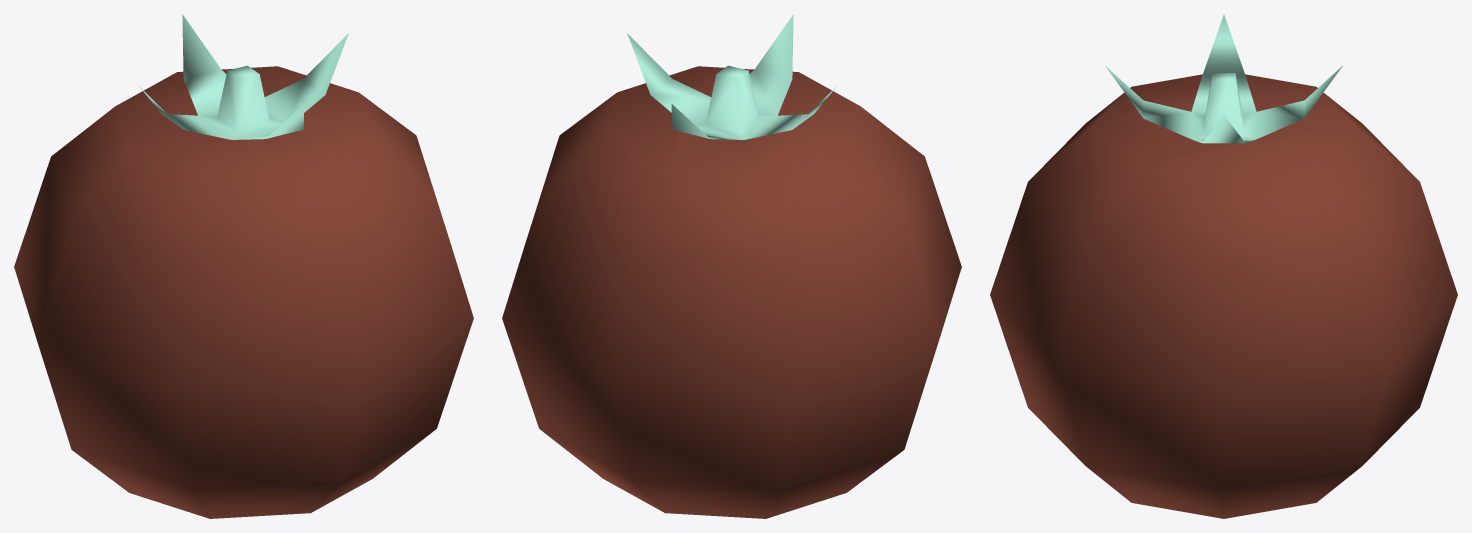
The model's file is knee.fbx.
3 views of the same model, side by side, from view 1: azimuth 30°, elevation 25°; view 2: azimuth 150°, elevation 25°; view 3: azimuth 270°, elevation 25° (orthographic).
Visible parts, largest first — view 1: Knee; view 2: Knee; view 3: Knee.
Boxes of the visible parts, box(x1,y1,x2,y2) form: Knee: box(14, 14, 473, 518); Knee: box(502, 14, 961, 518); Knee: box(990, 14, 1457, 518).
Bounding box in the file's own units: 28.97 × 27.3 × 28.97.
